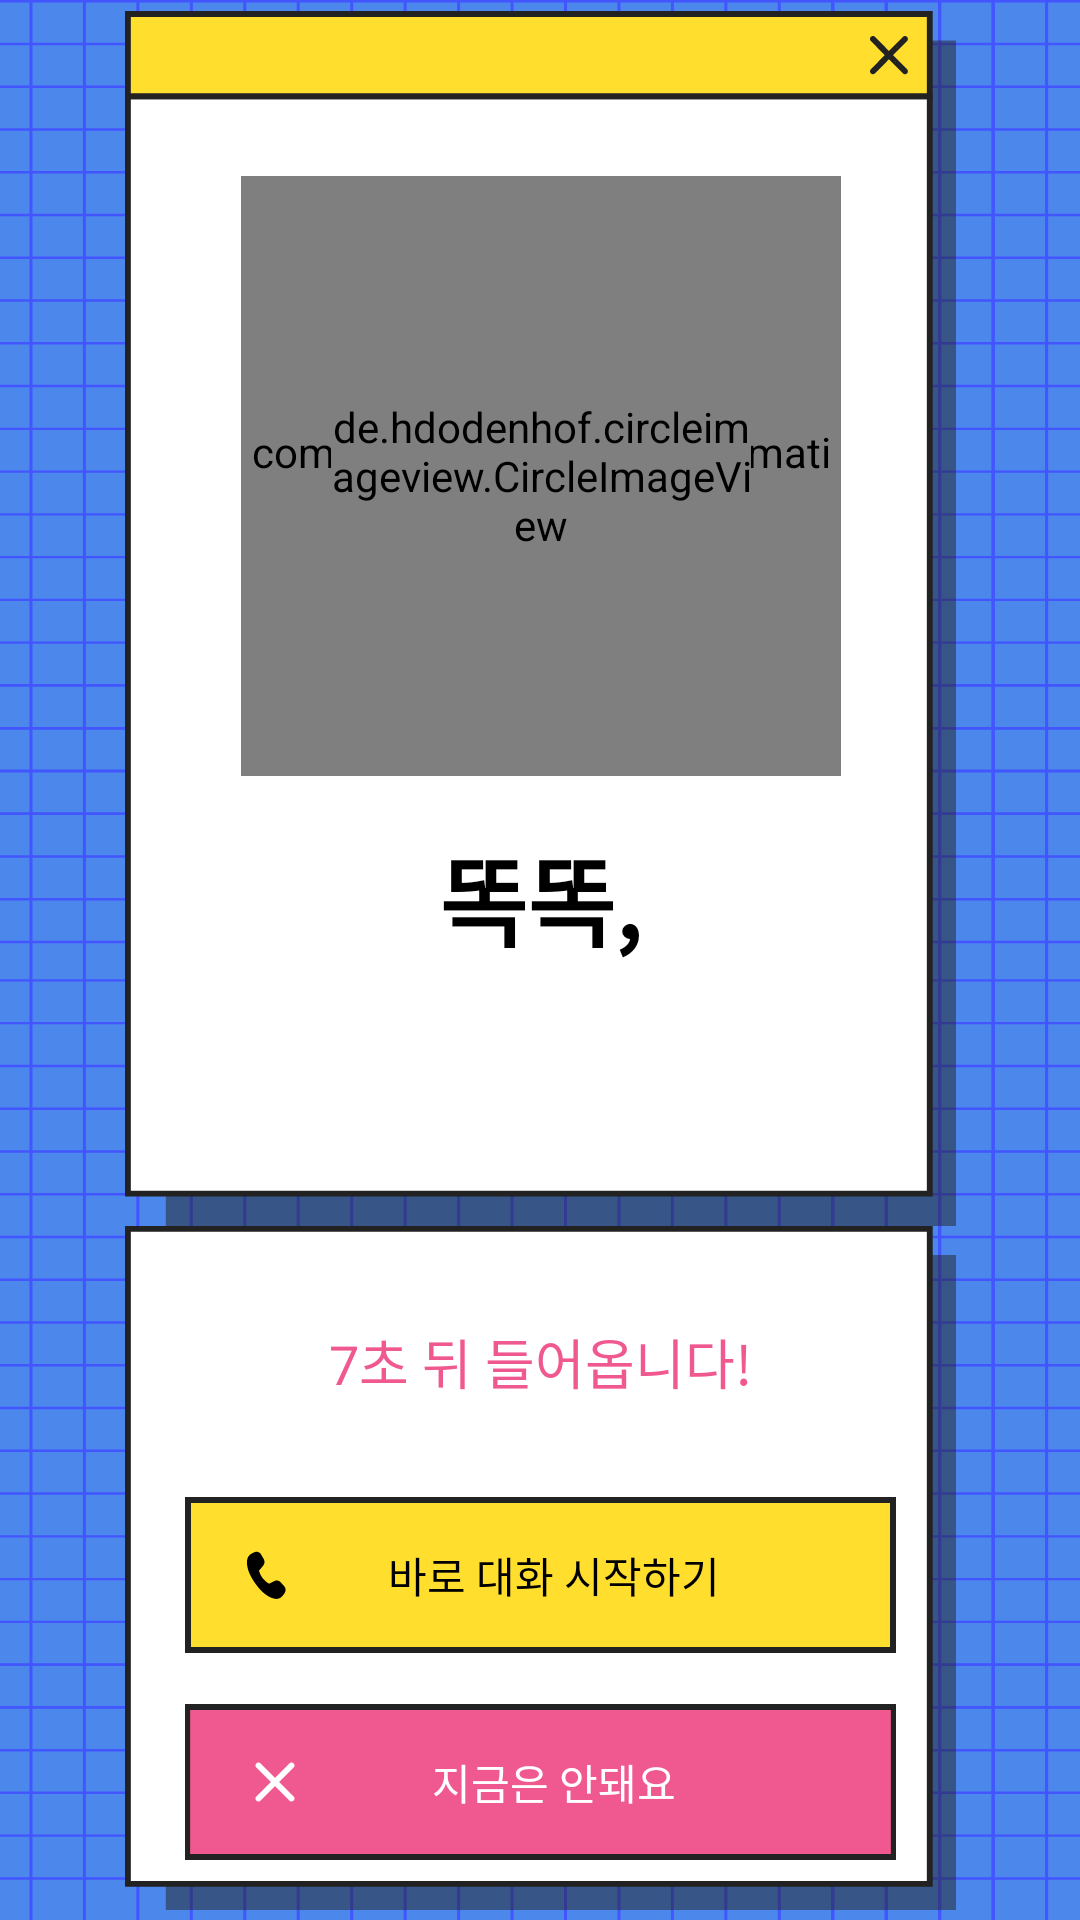

Icons on this 1080px×1920px Android screen, each with the point to tap as (x=x, y=y):
call: (x=266, y=1575)
